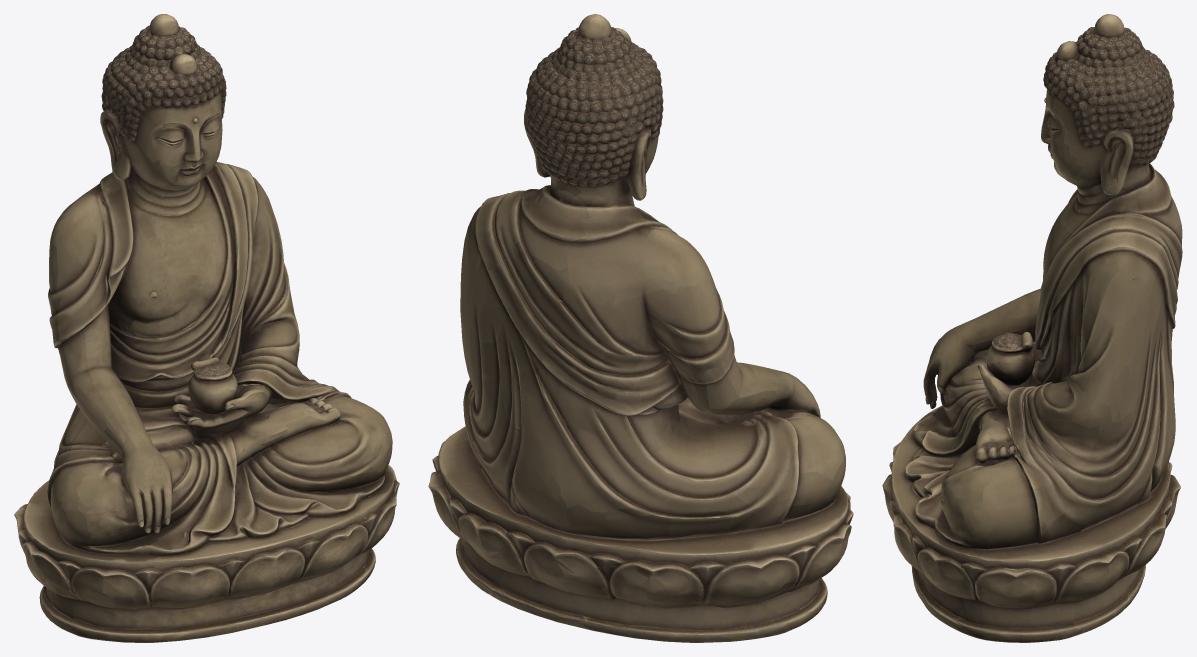
The model's file is statue-yaksa.glb.
The picture shows the model from 3 angles, left to right: view 1: azimuth 30°, elevation 25°; view 2: azimuth 150°, elevation 25°; view 3: azimuth 270°, elevation 25°; orthographic projection. The views are drawn at different scales.
Parts seen in each view (by area): view 1: output_unwrapped; view 2: output_unwrapped; view 3: output_unwrapped.
Part boxes in pixels (left/top/right/bottom): output_unwrapped: left=14, top=14, right=399, bottom=642; output_unwrapped: left=428, top=14, right=853, bottom=642; output_unwrapped: left=882, top=14, right=1182, bottom=642.
Size of the model in its own units: 1.32 by 1.9 by 0.937.
Materials: 1 (1 with a texture image).
